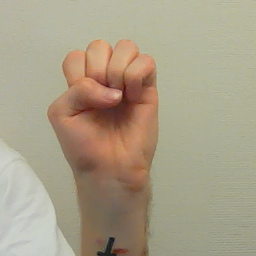E: (43, 39, 162, 171)
